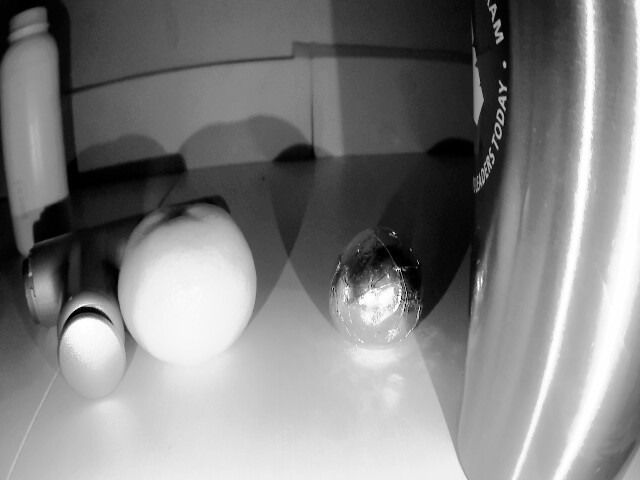black: (323, 219, 418, 355)
